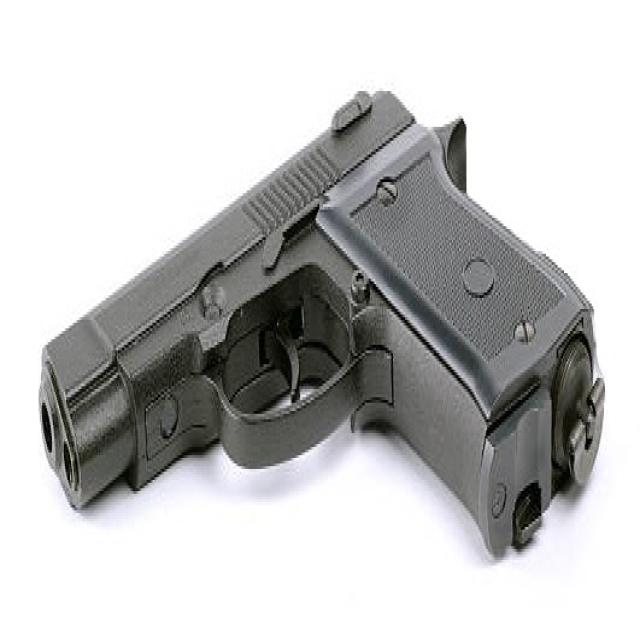pistol: (37, 73, 609, 578)
